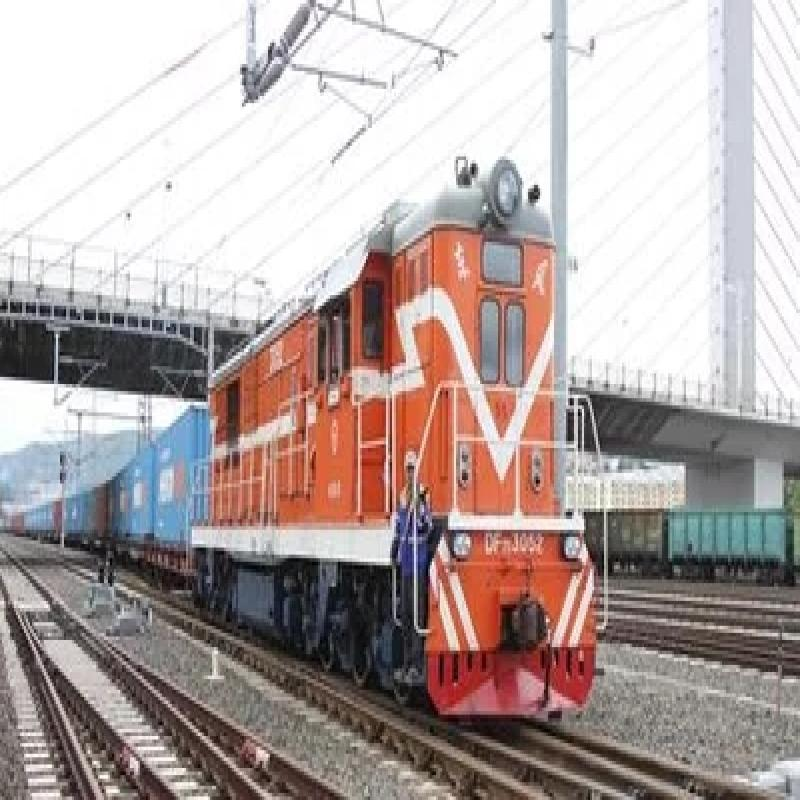train: (189, 144, 607, 734)
